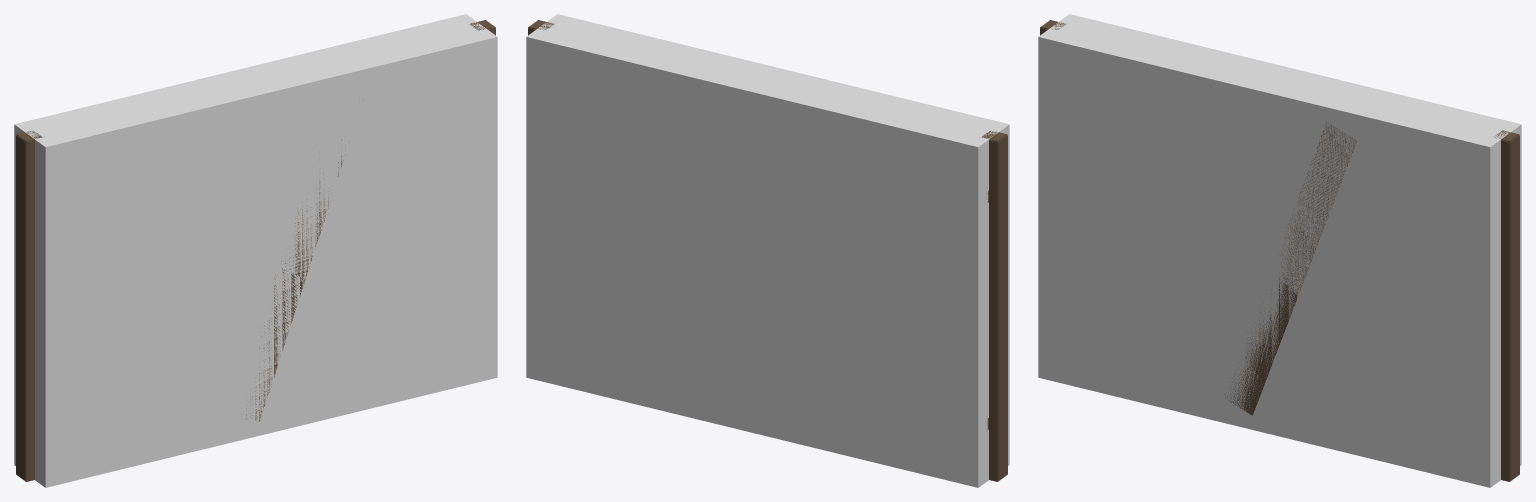
File: fence_loose_board.glb
3 renders of one model, left to right at view 1: azimuth 30°, elevation 25°; view 2: azimuth 150°, elevation 25°; view 3: azimuth 330°, elevation 25°, orthographic.
Parts seen in each view (by area): view 1: fence_loose_board-col, loose_mesh; view 2: fence_loose_board-col, loose_mesh; view 3: fence_loose_board-col, loose_mesh.
Boxes of the visible parts, bbox=[...] form: fence_loose_board-col: bbox=[14, 14, 497, 487]; loose_mesh: bbox=[16, 20, 495, 481]; fence_loose_board-col: bbox=[526, 14, 1009, 487]; loose_mesh: bbox=[528, 20, 1007, 481]; fence_loose_board-col: bbox=[1038, 14, 1521, 487]; loose_mesh: bbox=[1040, 20, 1519, 481].
Bounding box in the file's own units: 2.6 × 1.8 × 0.3.
